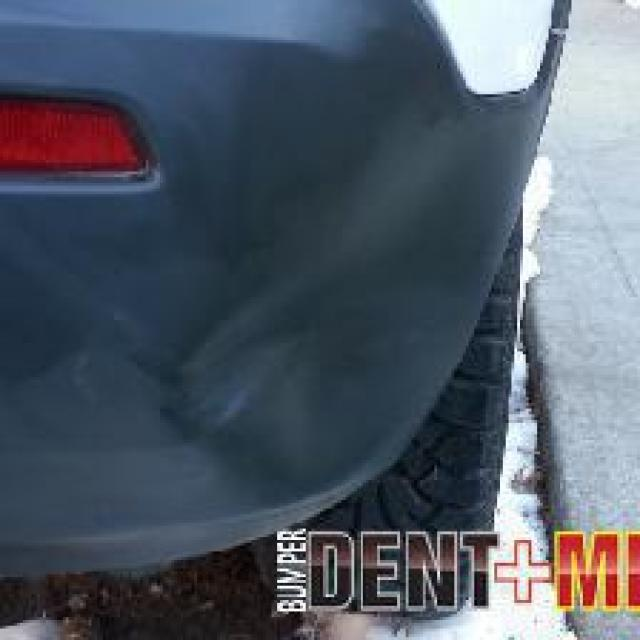damaged: (97, 94, 489, 512)
